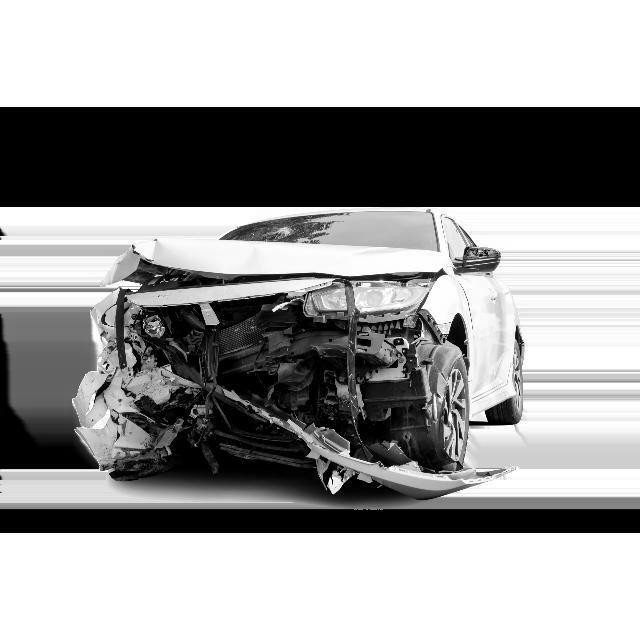bonnet-dent: (119, 242, 434, 300)
front-bumper-dent: (82, 311, 428, 486)
